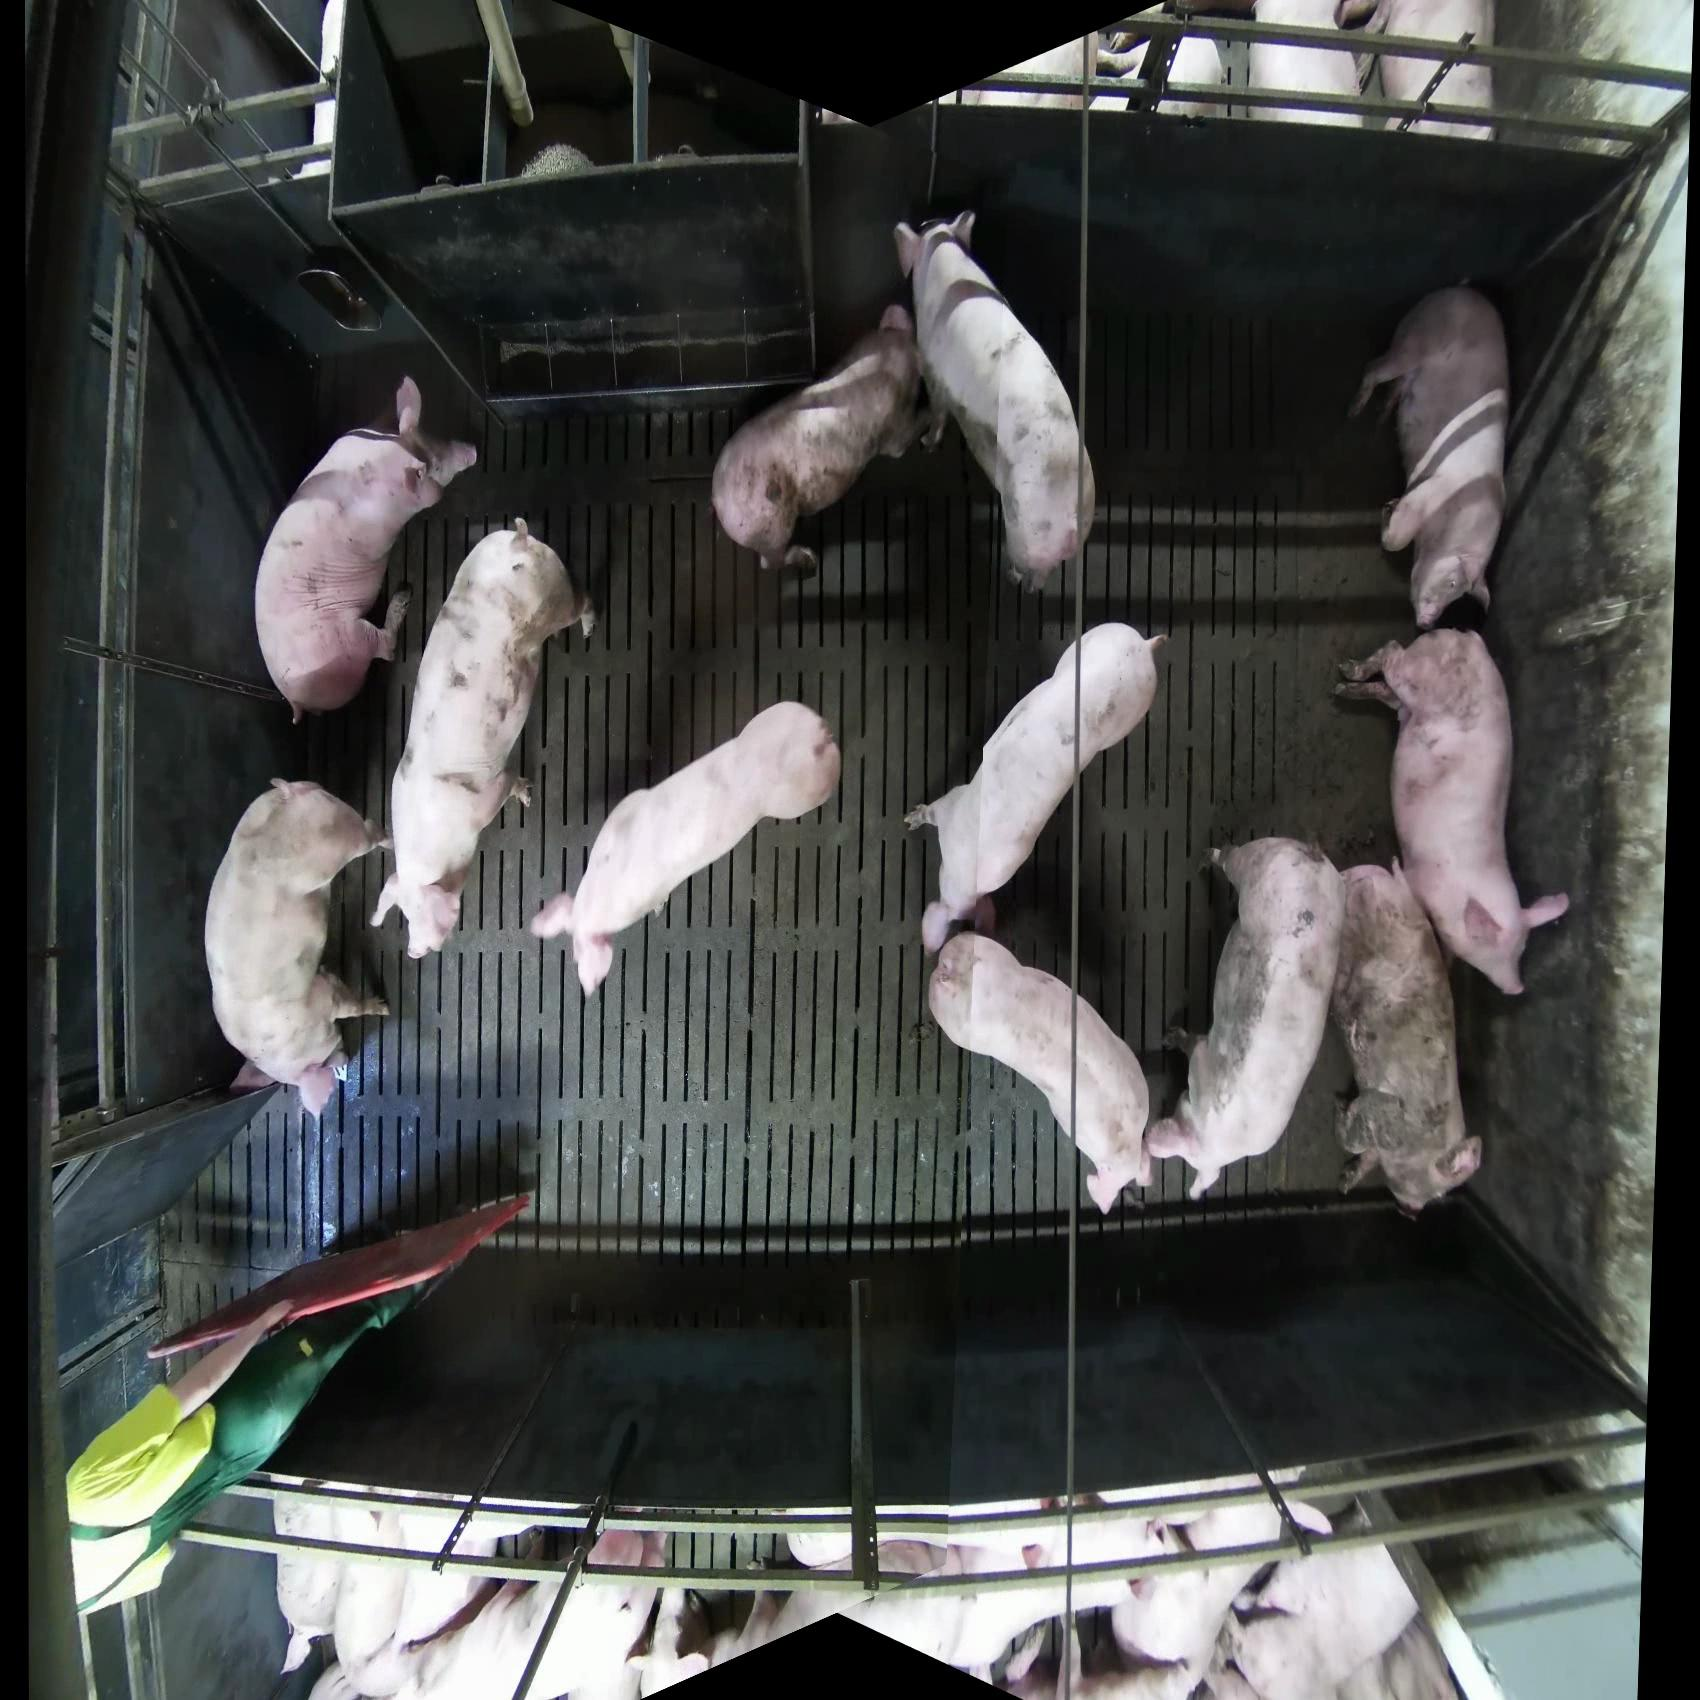pig: (65, 1188, 536, 1619), (367, 515, 595, 962), (529, 699, 842, 999), (903, 621, 1169, 957), (1333, 626, 1569, 998), (252, 374, 479, 725), (894, 209, 1098, 596), (1143, 834, 1347, 1203), (926, 929, 1155, 1214), (202, 777, 392, 1119), (708, 300, 936, 574), (1347, 279, 1513, 630), (1329, 858, 1484, 1219), (1368, 2, 1498, 142), (1250, 2, 1378, 128), (518, 142, 595, 181)
